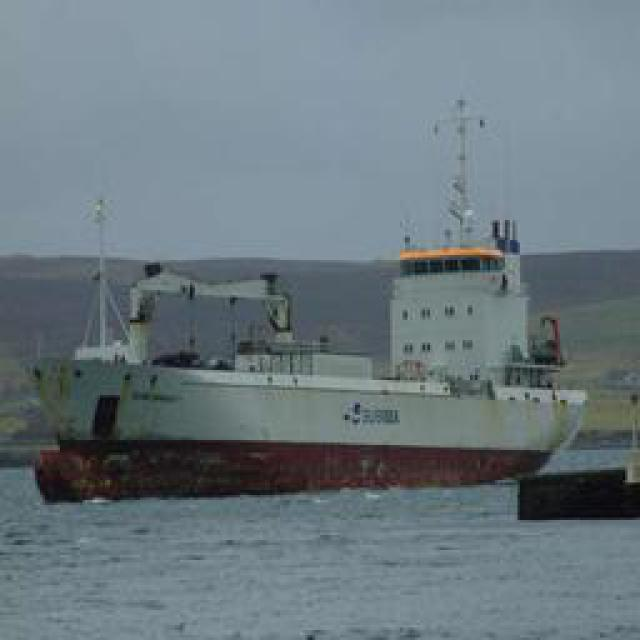Ship: (42, 212, 585, 492)
